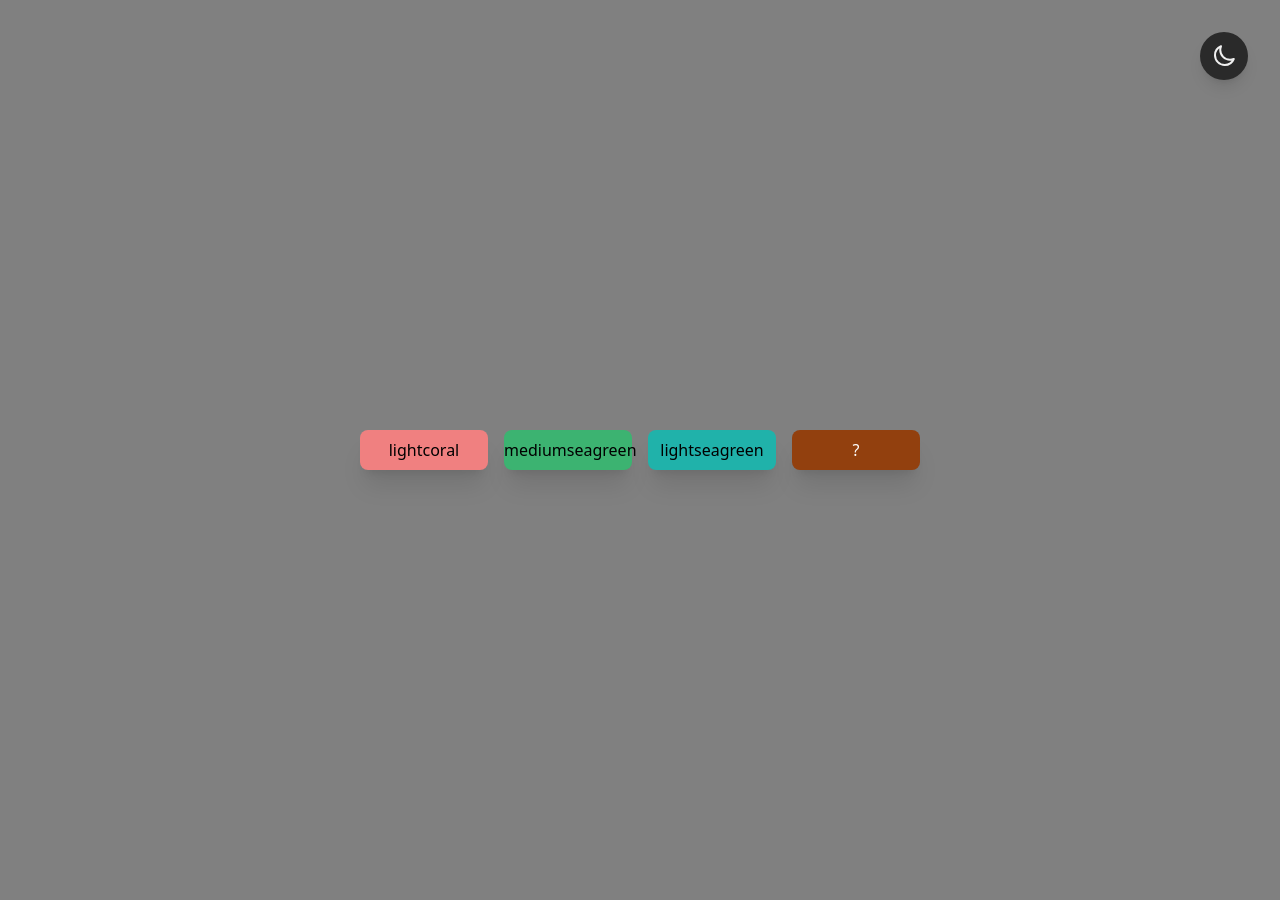
Theme Switcher › displays dark mode color buttons in dark mode
This screenshot has width=1280, height=900.
# Switch to dark mode
Click the button named "Toggle theme": point(1224, 56) x1=1200 y1=32 x2=1248 y2=80
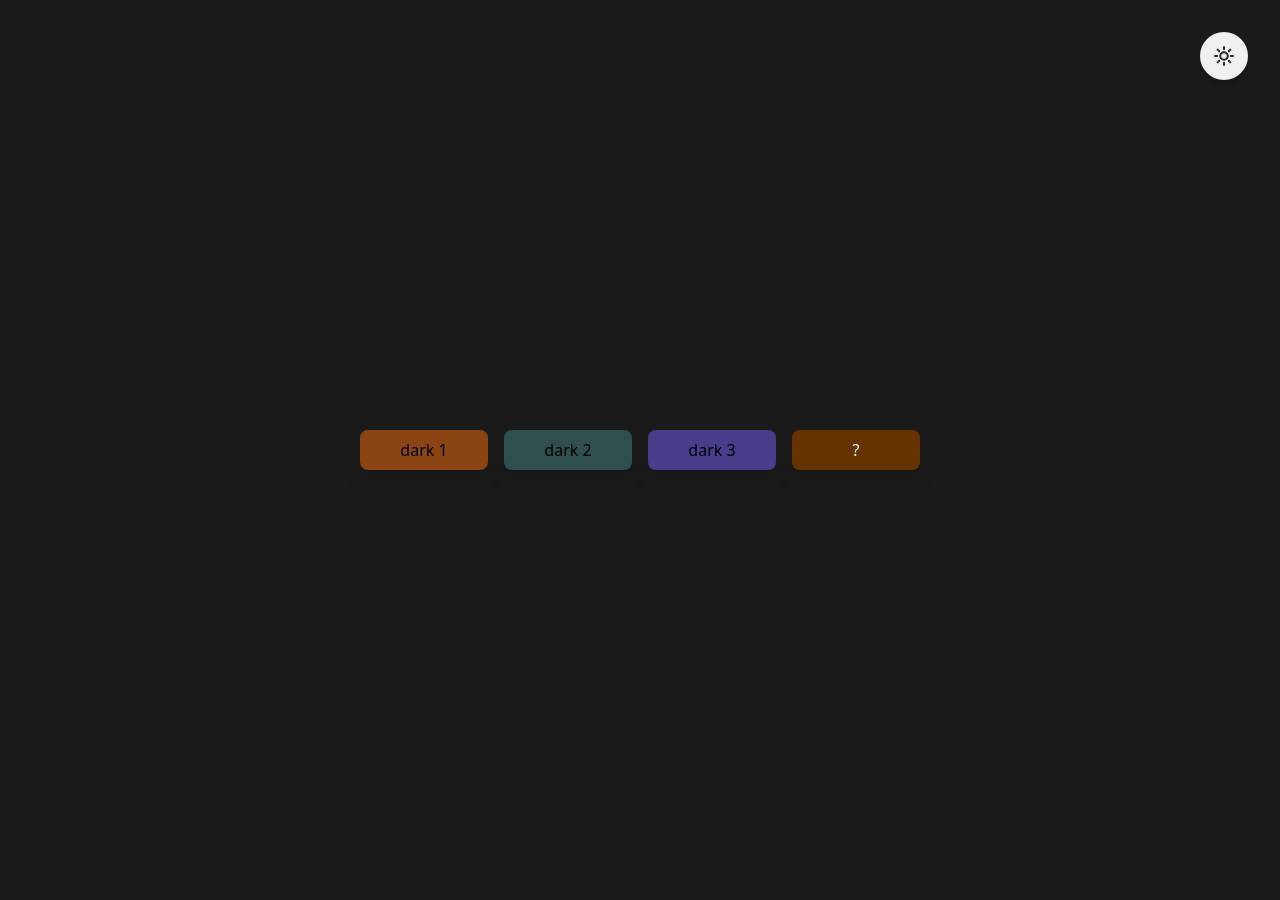
Expected: the button "dark 1" is shown, x1=360 y1=430 x2=488 y2=470
Expected: the button "dark 2" is shown, x1=504 y1=430 x2=632 y2=470
Expected: the button "dark 3" is shown, x1=648 y1=430 x2=776 y2=470
